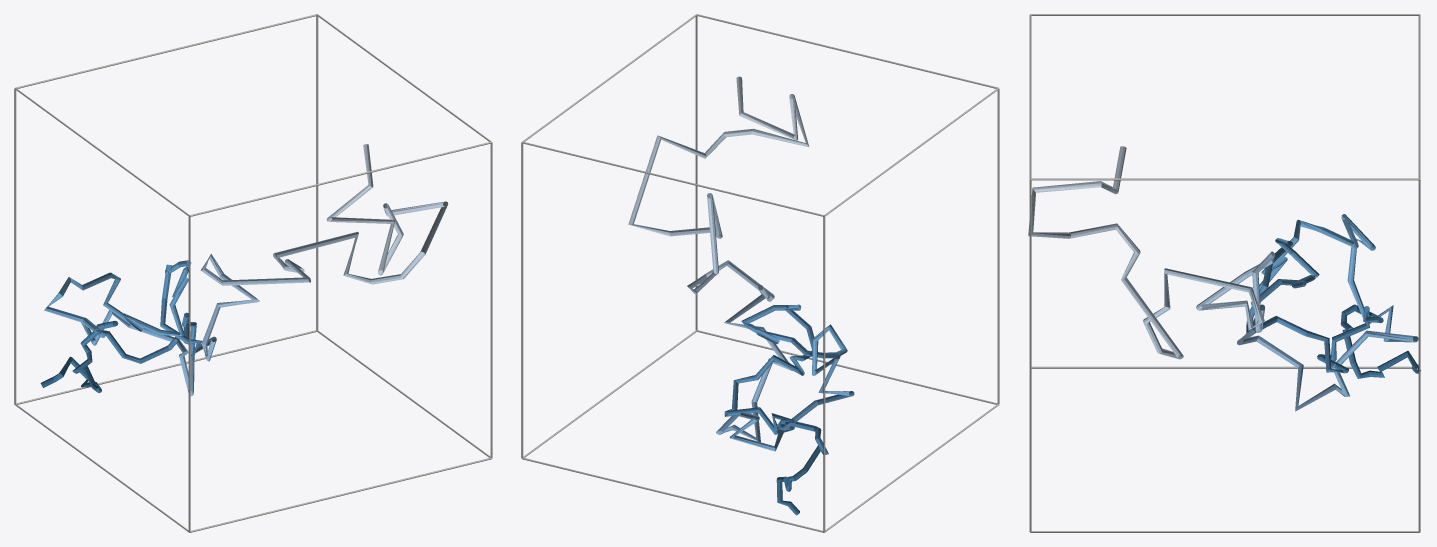
3 views of the same model, side by side, from view 1: azimuth 30°, elevation 25°; view 2: azimuth 150°, elevation 25°; view 3: azimuth 270°, elevation 25° (orthographic). The views are drawn at different scales.
Visible parts, largest first — view 1: geometry_0, geometry_1; view 2: geometry_0, geometry_1; view 3: geometry_0, geometry_1.
Boxes of the visible parts, bbox=[...] form: geometry_0: bbox=[40, 144, 448, 396]; geometry_1: bbox=[14, 14, 492, 532]; geometry_0: bbox=[628, 76, 854, 515]; geometry_1: bbox=[521, 14, 999, 532]; geometry_0: bbox=[1028, 146, 1420, 411]; geometry_1: bbox=[1029, 14, 1420, 532].
Bounding box in the file's own units: 0.3016 × 0.3014 × 0.3044.
